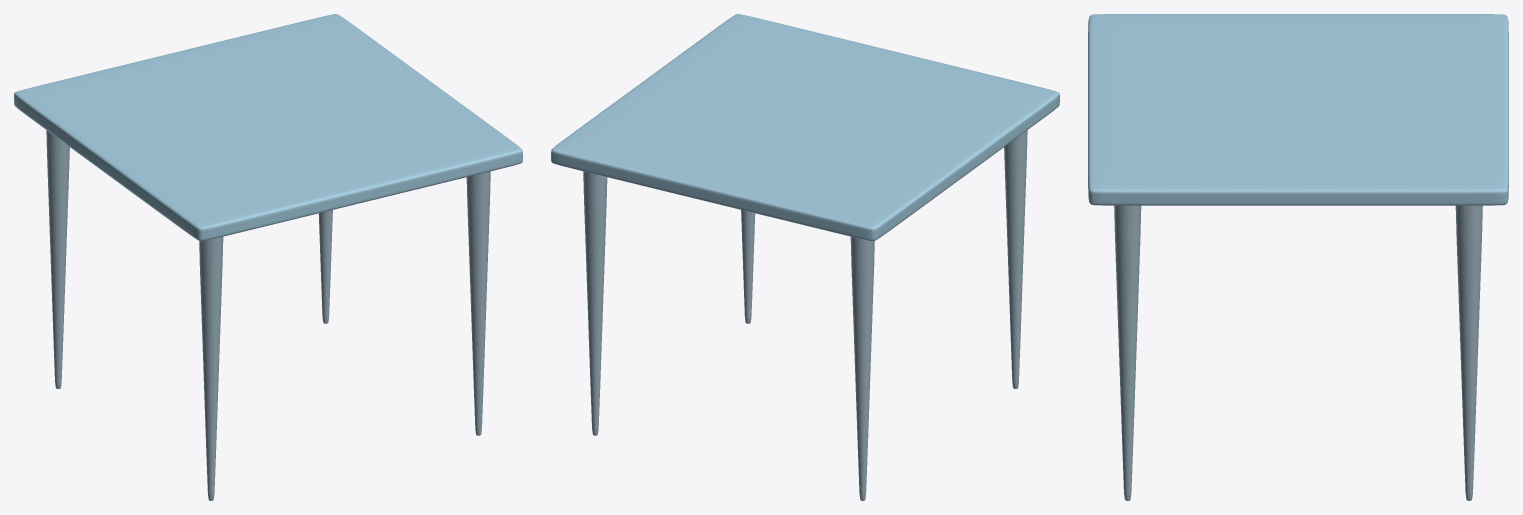
File: work_table.glb
3 views of the same model, side by side, from view 1: azimuth 30°, elevation 25°; view 2: azimuth 150°, elevation 25°; view 3: azimuth 270°, elevation 25° (orthographic). The views are drawn at different scales.
Parts seen in each view (by area): view 1: work_table, Cylinder.001; view 2: work_table, Cylinder.001; view 3: work_table, Cylinder.001.
Boxes of the visible parts, bbox=[...] form: work_table: bbox=[14, 14, 522, 241]; Cylinder.001: bbox=[46, 130, 490, 500]; work_table: bbox=[551, 14, 1059, 241]; Cylinder.001: bbox=[583, 130, 1027, 500]; work_table: bbox=[1088, 14, 1508, 205]; Cylinder.001: bbox=[1114, 205, 1482, 500].
Size of the model in its own units: 2 by 1.71 by 2.
